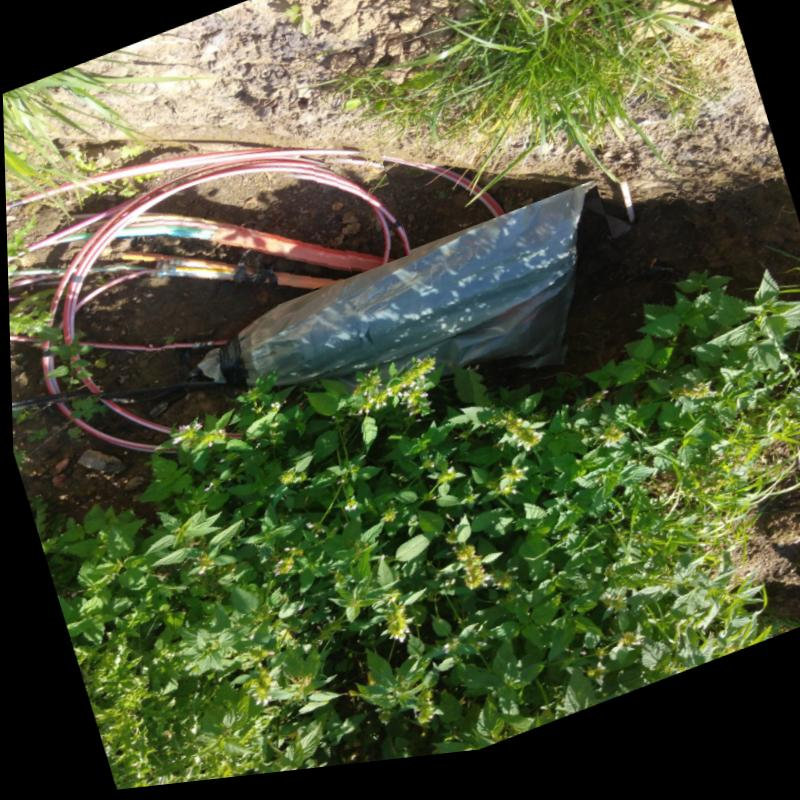NT-Muffen: (171, 193, 594, 404)
Orang-Speednetrohrchen: (155, 218, 403, 276), (111, 255, 339, 295)
